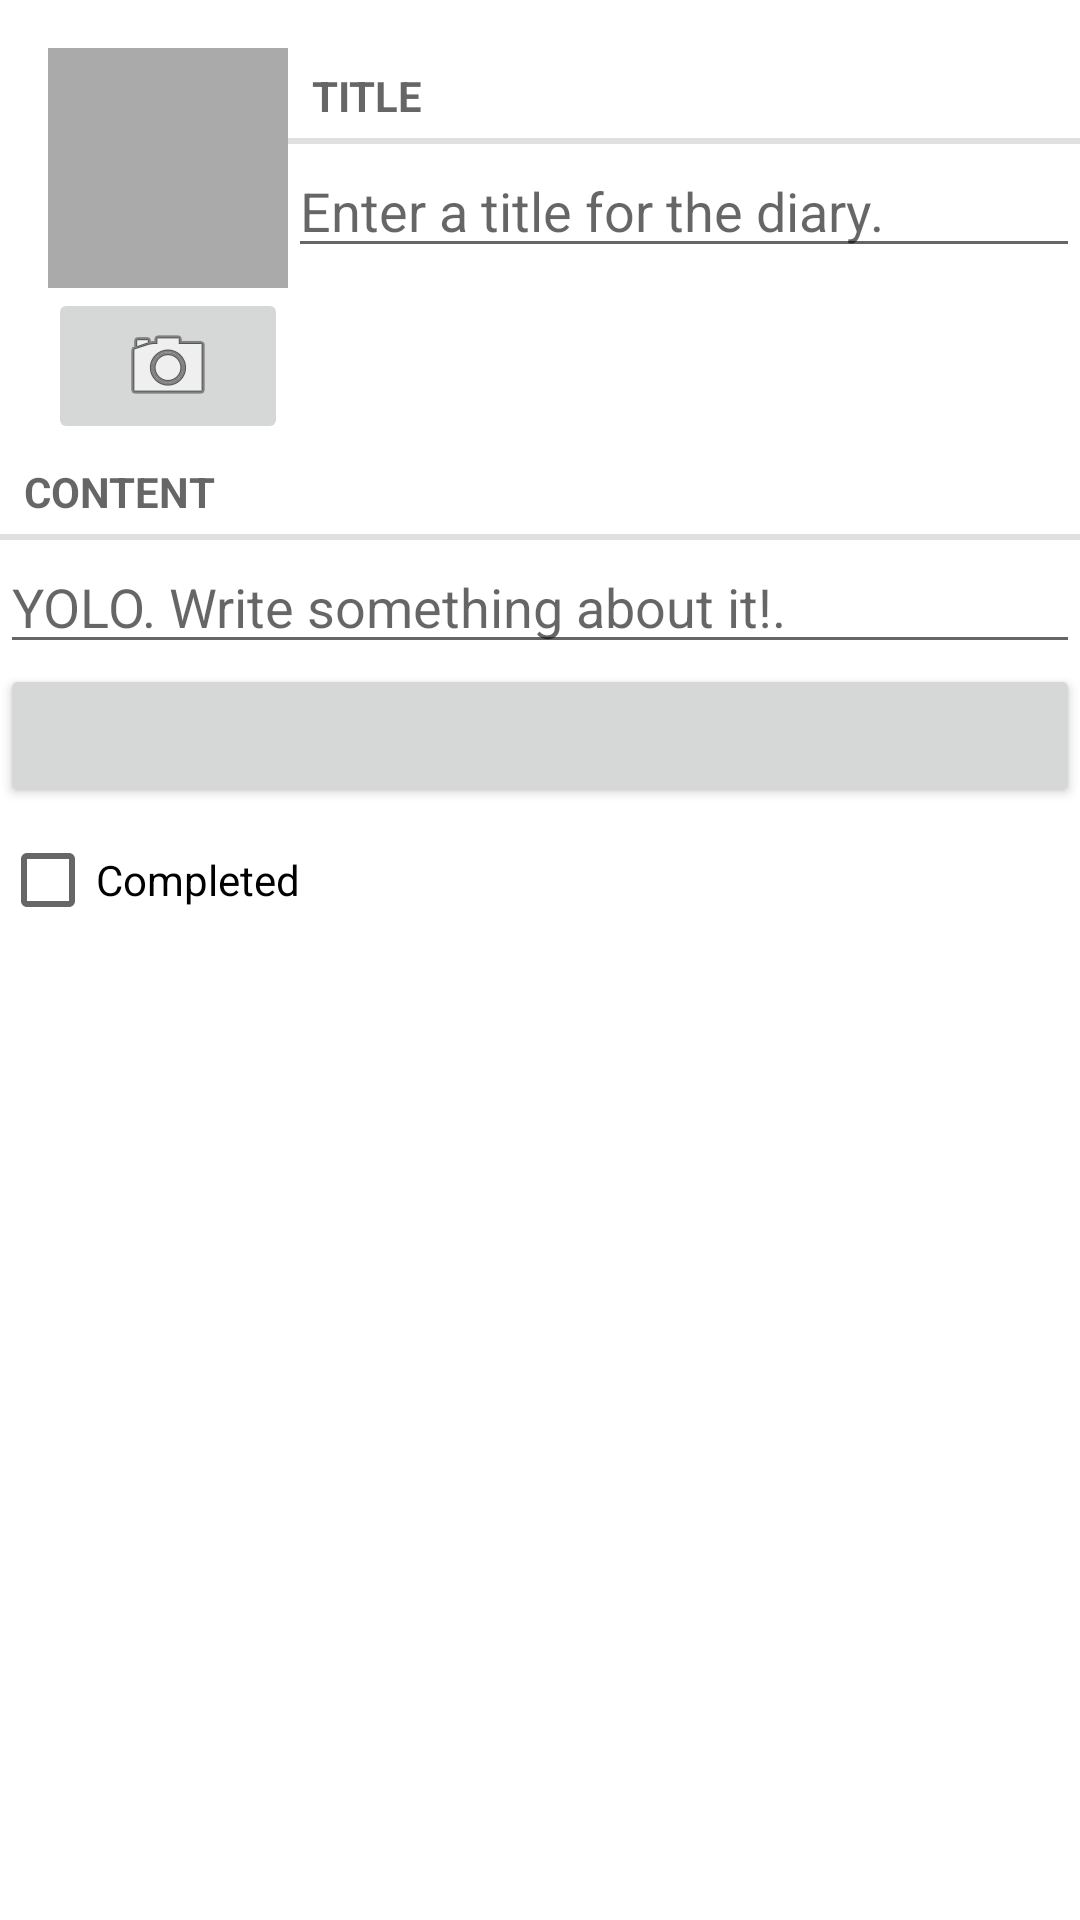

Point at icon controls on the screen. Image size 1080w x 1920h, points as (x=x, y=y).
camera: (x=168, y=366)
